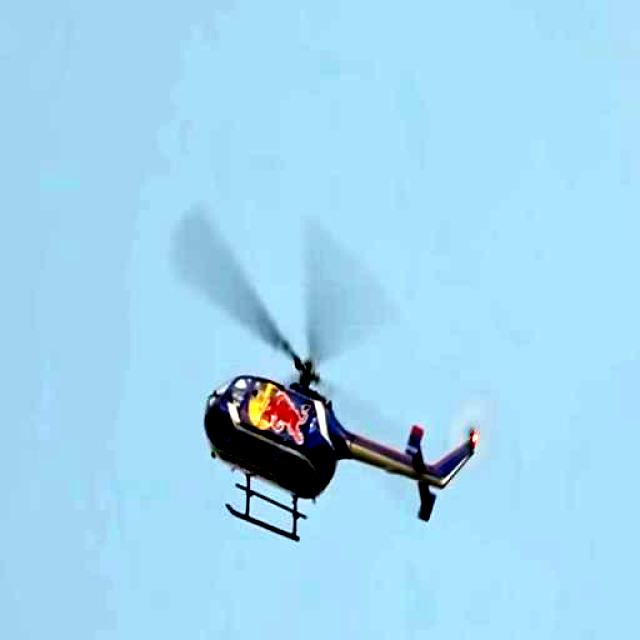drone: (170, 285, 491, 569)
